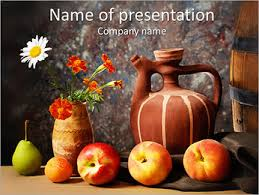apple: (126, 143, 171, 185), (183, 141, 227, 179), (77, 145, 118, 184), (14, 143, 44, 170), (45, 156, 73, 184)
